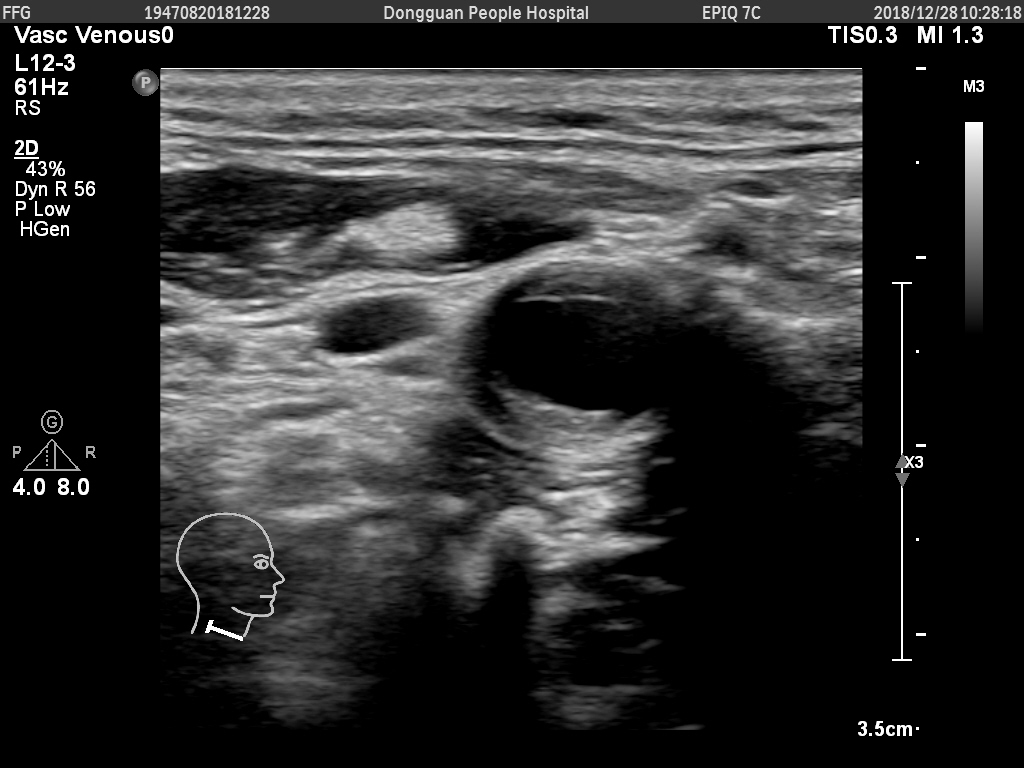plaque: (454, 367, 681, 470), (497, 254, 669, 322)
vessel: (442, 240, 728, 495)
